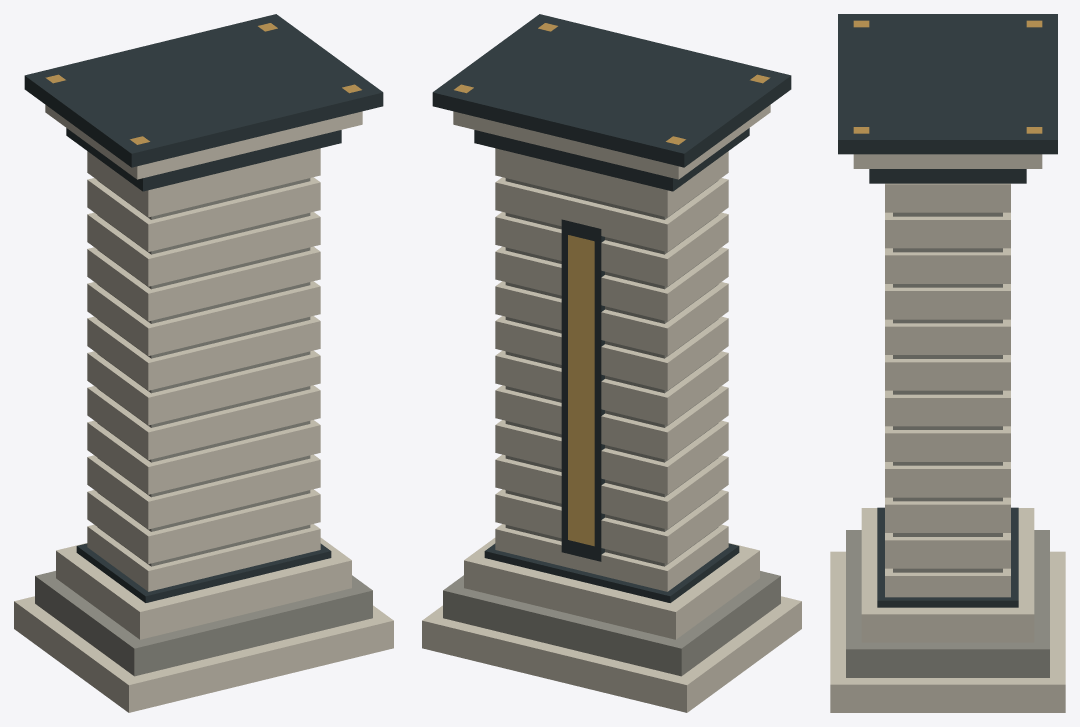
The picture shows the model from 3 angles, left to right: view 1: azimuth 30°, elevation 25°; view 2: azimuth 150°, elevation 25°; view 3: azimuth 270°, elevation 25°; orthographic projection. The views are drawn at different scales.
Visible parts, largest first — view 1: 隔离共享高桥墩/墩帽; view 2: 隔离共享高桥墩/墩帽; view 3: 隔离共享高桥墩/墩帽.
Boxes of the visible parts, left/top/right/bottom form: 隔离共享高桥墩/墩帽: left=14, top=14, right=393, bottom=712; 隔离共享高桥墩/墩帽: left=422, top=14, right=801, bottom=712; 隔离共享高桥墩/墩帽: left=830, top=14, right=1065, bottom=712.
Size of the model in its own units: 4 by 8 by 3.
Materials: 5 (5 with a texture image).
